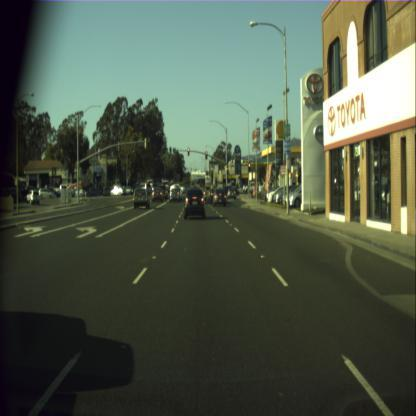Green: (169, 147, 171, 154)
Red: (247, 162, 250, 171), (188, 147, 190, 156), (205, 150, 207, 158), (226, 166, 228, 173)
